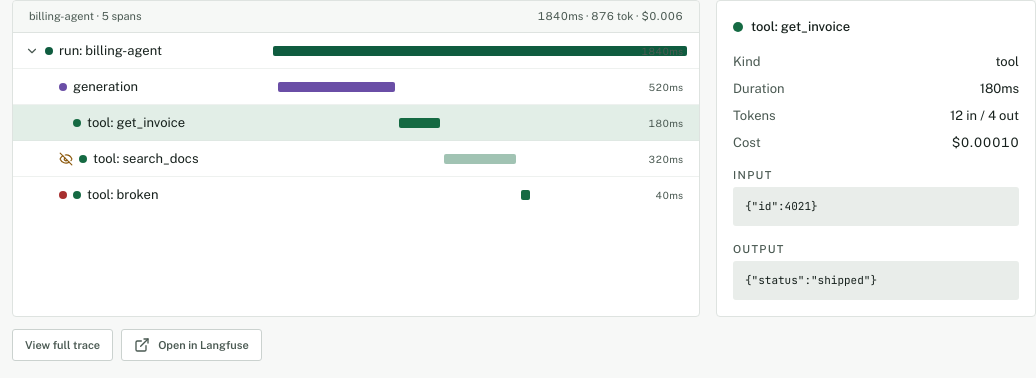
Scenario: RunInspector (native summary from flat spans) › renders a redacted marker over a redacted span — never a blank or a leak
Click the list item with test id "span-row-redacted".
click(146, 158)  # box [13,141,699,177]
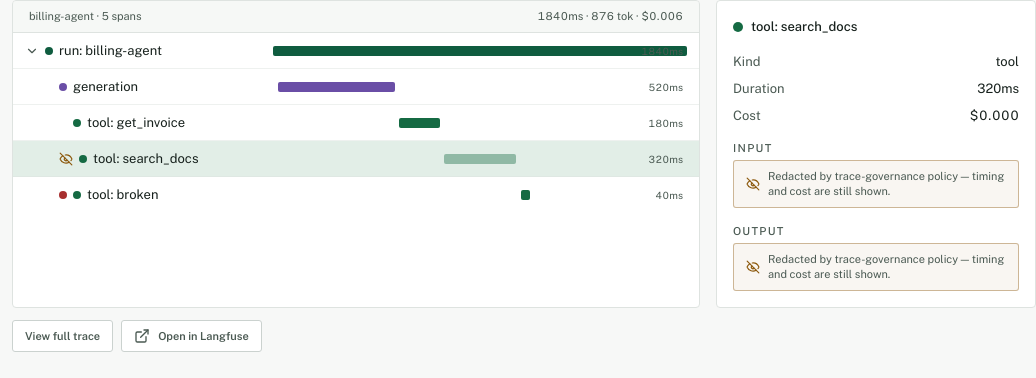
Expected: the element with test id "span-input-redacted-redacted" is shown, [733,160,1019,208]
Expected: the element with test id "span-output-redacted-redacted" is shown, [733,243,1019,291]
